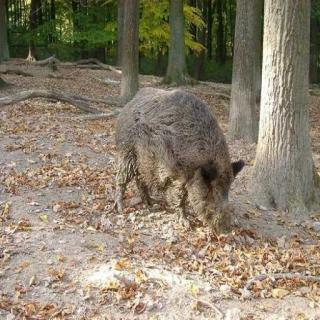Pig: (69, 56, 233, 233)
